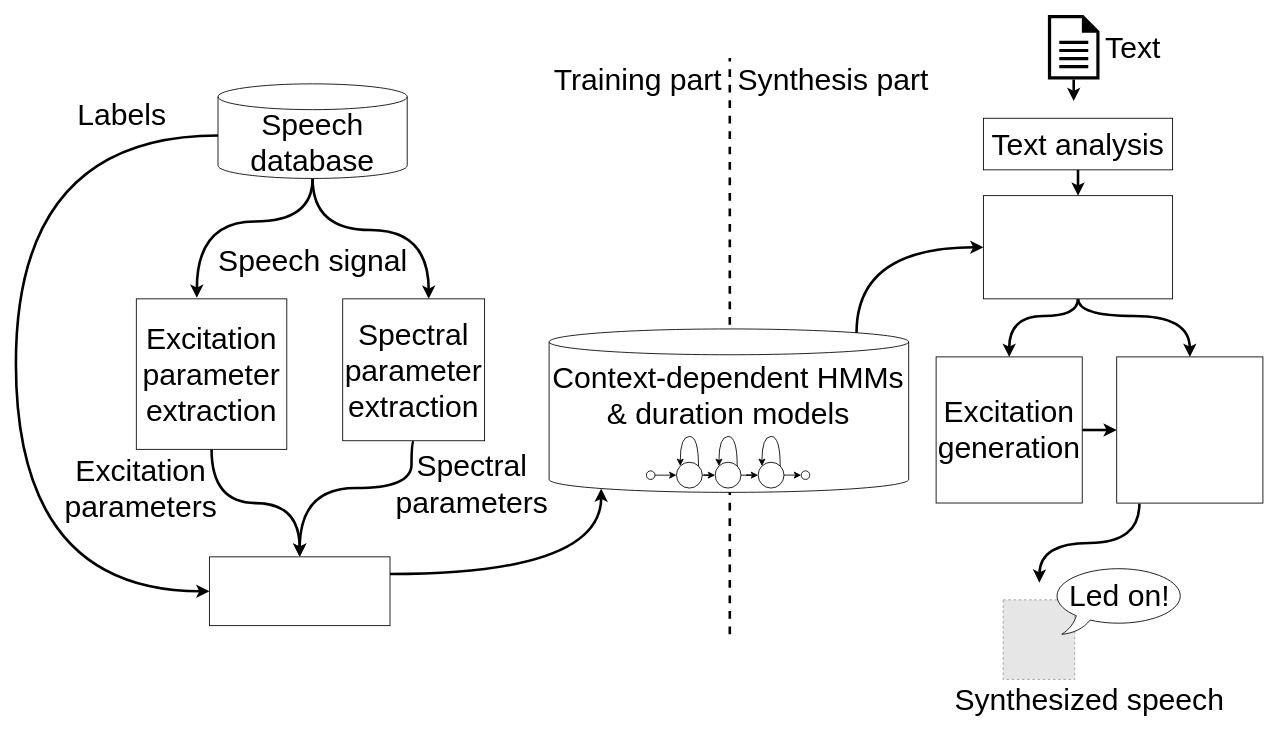
The diagram is 1278 pixels wide and 734 high, and some of its shapes have lost their labels. Grey dashed boxes stand in for pictures. Each missing label, with the centre of its shape:
"Parameter generation from HMM" belongs at (x=1078, y=247).
"Synthesis filter" belongs at (x=1189, y=429).
"Training of HMM" belongs at (x=299, y=591).
